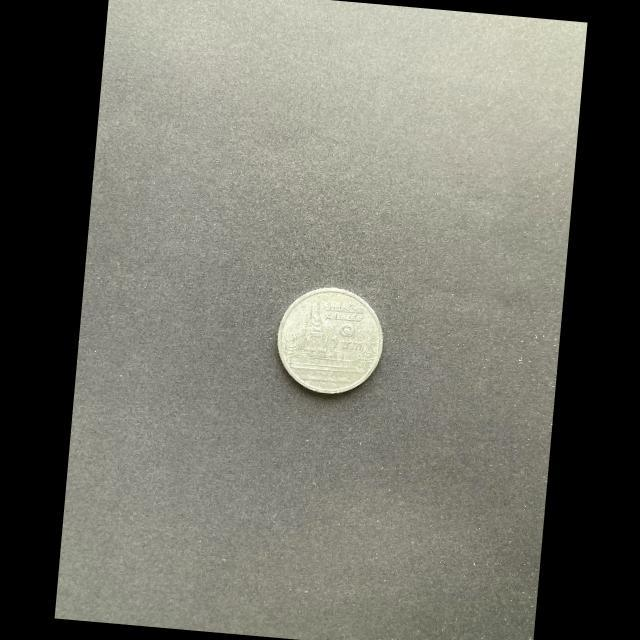1 Bath: (276, 286, 388, 402)
